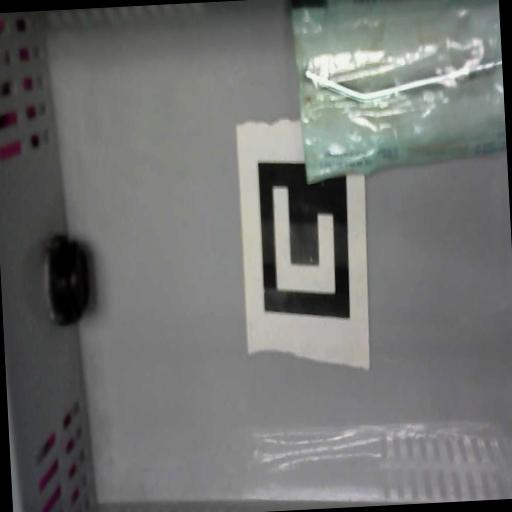QR: (236, 112, 374, 376)
triple_syringe: (291, 0, 508, 184)
